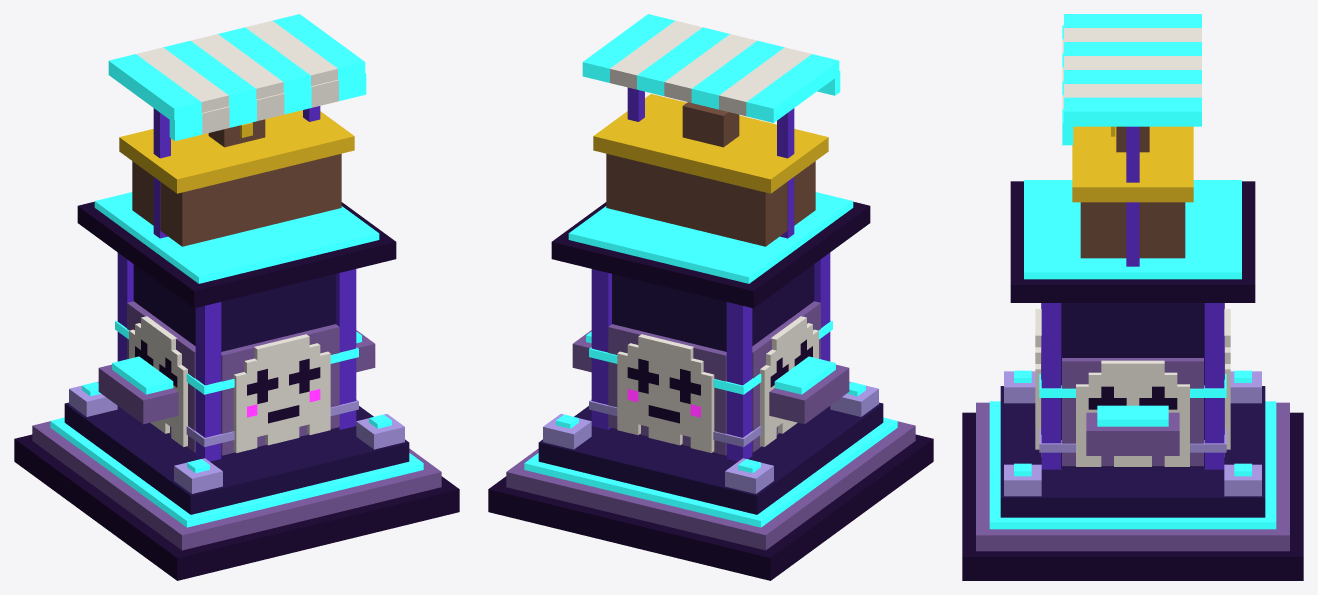
Rendered from merchant-tier-2.glb.
3 renders of one model, left to right at view 1: azimuth 30°, elevation 25°; view 2: azimuth 150°, elevation 25°; view 3: azimuth 270°, elevation 25°, orthographic. The views are drawn at different scales.
Parts seen in each view (by area): view 1: base-ink, base-deep, base-stone, base-teal, crown-teal, crown-wood, base-cream, crown-gold, crown-cream, base-purple, base-lavender, crown-purple; view 2: base-ink, base-deep, base-stone, base-teal, crown-wood, crown-gold, base-cream, crown-teal, base-purple, crown-cream, base-lavender, crown-purple; view 3: base-deep, base-ink, base-teal, base-stone, crown-teal, crown-gold, base-cream, base-purple, crown-wood, crown-cream, base-lavender, crown-purple.
Part boxes in pixels (bbox=[...]): base-ink: bbox=[14, 201, 459, 580]; base-deep: bbox=[64, 264, 409, 514]; base-stone: bbox=[32, 301, 441, 550]; base-teal: bbox=[50, 192, 423, 527]; crown-teal: bbox=[108, 14, 366, 140]; crown-wood: bbox=[132, 119, 341, 246]; base-cream: bbox=[129, 316, 330, 452]; crown-gold: bbox=[119, 110, 354, 193]; crown-cream: bbox=[136, 20, 338, 134]; base-purple: bbox=[117, 252, 356, 461]; base-lavender: bbox=[69, 381, 404, 493]; crown-purple: bbox=[153, 106, 320, 238]; base-ink: bbox=[488, 201, 933, 580]; base-deep: bbox=[538, 264, 883, 514]; base-stone: bbox=[506, 301, 915, 550]; base-teal: bbox=[524, 192, 897, 527]; crown-wood: bbox=[606, 102, 815, 246]; crown-gold: bbox=[593, 94, 828, 193]; base-cream: bbox=[617, 316, 818, 452]; crown-teal: bbox=[582, 14, 840, 122]; base-purple: bbox=[591, 252, 830, 461]; crown-cream: bbox=[610, 20, 811, 116]; base-lavender: bbox=[543, 381, 878, 493]; crown-purple: bbox=[627, 87, 794, 238]; base-deep: bbox=[1000, 303, 1265, 517]; base-ink: bbox=[962, 181, 1303, 580]; base-teal: bbox=[989, 180, 1276, 529]; base-stone: bbox=[976, 303, 1289, 551]; crown-teal: bbox=[1062, 14, 1201, 145]; crown-gold: bbox=[1072, 126, 1193, 202]; base-cream: bbox=[1035, 309, 1230, 466]; base-purple: bbox=[1041, 303, 1224, 469]; crown-wood: bbox=[1080, 126, 1185, 258]; crown-cream: bbox=[1062, 28, 1201, 109]; base-lavender: bbox=[1004, 371, 1261, 496]; crown-purple: bbox=[1126, 126, 1139, 266].
Bounding box in the file's own units: 3.1 × 4.47 × 3.1.
